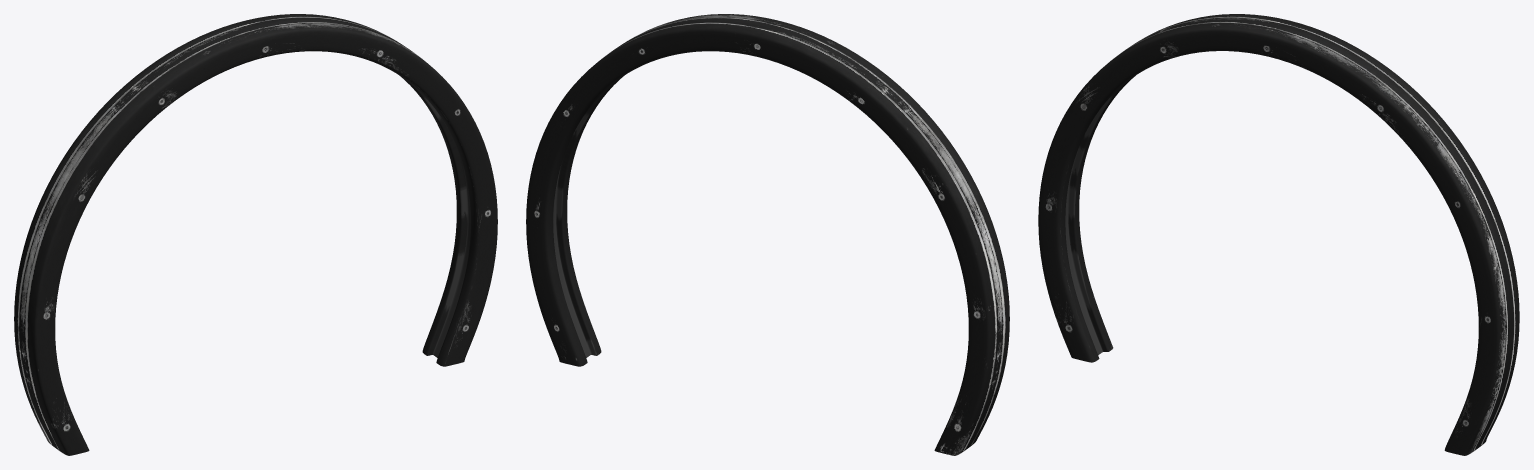
Rendered from frame.obj.
3 renders of one model, left to right at view 1: azimuth 30°, elevation 25°; view 2: azimuth 150°, elevation 25°; view 3: azimuth 330°, elevation 25°, orthographic.
Parts seen in each view (by area): view 1: polySurface2_Untitled.002; view 2: polySurface2_Untitled.002; view 3: polySurface2_Untitled.002.
Boxes of the visible parts, <box> form: polySurface2_Untitled.002: <box>14,14,497,455</box>; polySurface2_Untitled.002: <box>526,14,1009,455</box>; polySurface2_Untitled.002: <box>1038,14,1519,455</box>.
Size of the model in its own units: 1.93 by 1.49 by 0.1585.
Materials: 1 (1 with a texture image).
